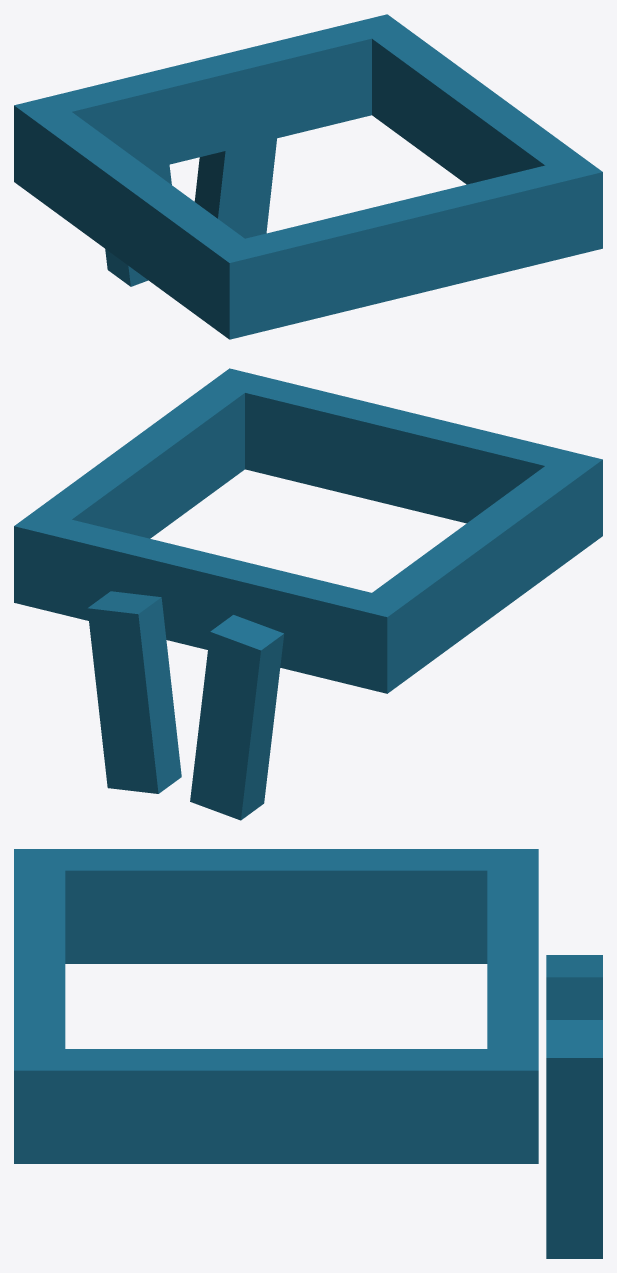
File: blue_bandana.glb
The picture shows the model from 3 angles, top to bottom: view 1: azimuth 30°, elevation 25°; view 2: azimuth 150°, elevation 25°; view 3: azimuth 270°, elevation 25°; orthographic projection. The views are drawn at different scales.
Visible parts, largest first — view 1: blue_bandana; view 2: blue_bandana; view 3: blue_bandana.
Boxes of the visible parts, x1,y1,x2,y2 form: blue_bandana: (14,14,602,339); blue_bandana: (14,368,602,820); blue_bandana: (14,849,602,1258).
Size of the model in its own units: 0.51 by 0.2784 by 0.5725.
